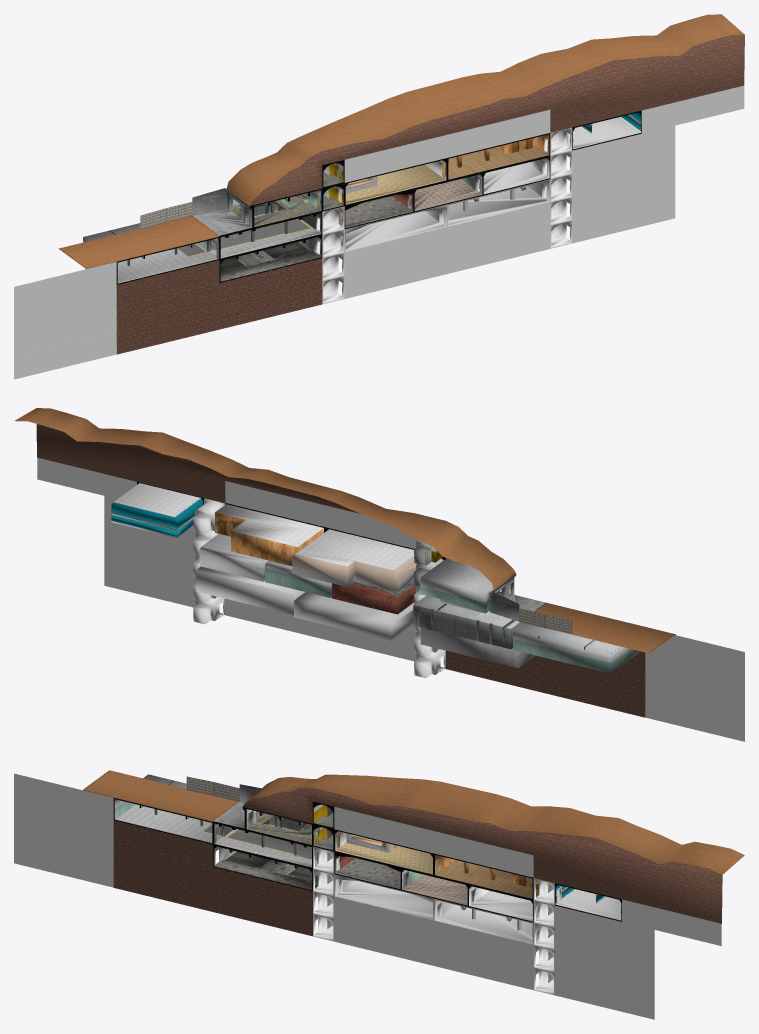
The picture shows the model from 3 angles, top to bottom: view 1: azimuth 30°, elevation 25°; view 2: azimuth 150°, elevation 25°; view 3: azimuth 330°, elevation 25°; orthographic projection. The views are drawn at different scales.
Visible parts, largest first — view 1: ВыдавливаниеNURBS.2, Объект Куб.1.3, большая земля, вход пол, Гараж, Sclad, Столовая.5, Станция Воды, Казарма.2, Ферма, Объект Куб.9, Объект Куб.2 (+17 smaller); view 2: ВыдавливаниеNURBS.2, большая земля, Столовая.5, Казарма.2, СанЧасть, Sclad, Объект Куб.1.3, Станция Воды, Гараж, вход пол, Вход Зал, Ферма (+18 smaller); view 3: ВыдавливаниеNURBS.2, большая земля, Объект Куб.1.3, вход пол, Гараж, Sclad, Ферма, Казарма.2, земля, Столовая.5, Генератор, Станция Воды (+28 smaller).
Part boxes in pixels (x1=…): ВыдавливаниеNURBS.2: x1=226, y1=14, x2=744, y2=205; Объект Куб.1.3: x1=344, y1=202, x2=550, y2=298; большая земля: x1=116, y1=258, x2=322, y2=354; вход пол: x1=58, y1=216, x2=219, y2=269; Гараж: x1=209, y1=201, x2=322, y2=259; Sclad: x1=83, y1=223, x2=219, y2=284; Столовая.5: x1=338, y1=158, x2=447, y2=205; Станция Воды: x1=338, y1=204, x2=447, y2=252; Казарма.2: x1=441, y1=133, x2=550, y2=180; Ферма: x1=441, y1=179, x2=550, y2=227; Объект Куб.9: x1=447, y1=109, x2=550, y2=157; Объект Куб.2: x1=572, y1=195, x2=675, y2=243; ВыдавливаниеNURBS.2: x1=15, y1=408, x2=515, y2=590; большая земля: x1=446, y1=650, x2=645, y2=717; Столовая.5: x1=292, y1=527, x2=416, y2=591; Казарма.2: x1=215, y1=503, x2=324, y2=565; СанЧасть: x1=111, y1=482, x2=203, y2=537; Sclad: x1=513, y1=622, x2=640, y2=673; Объект Куб.1.3: x1=225, y1=598, x2=417, y2=661; Станция Воды: x1=294, y1=592, x2=414, y2=640; Гараж: x1=413, y1=595, x2=521, y2=649; вход пол: x1=533, y1=602, x2=675, y2=653; Вход Зал: x1=420, y1=558, x2=511, y2=613; Ферма: x1=196, y1=566, x2=305, y2=615; ВыдавливаниеNURBS.2: x1=243, y1=774, x2=744, y2=923; большая земля: x1=113, y1=843, x2=312, y2=936; Объект Куб.1.3: x1=334, y1=896, x2=533, y2=990; вход пол: x1=83, y1=770, x2=238, y2=821; Гараж: x1=213, y1=815, x2=318, y2=868; Sclad: x1=113, y1=774, x2=222, y2=844; Ферма: x1=434, y1=898, x2=548, y2=945; Казарма.2: x1=434, y1=853, x2=539, y2=900; земля: x1=113, y1=820, x2=213, y2=866; Столовая.5: x1=334, y1=829, x2=439, y2=875; Генератор: x1=213, y1=844, x2=318, y2=891; Станция Воды: x1=334, y1=874, x2=439, y2=920.
Bounding box in the file's own units: 10881 × 2511 × 900.
